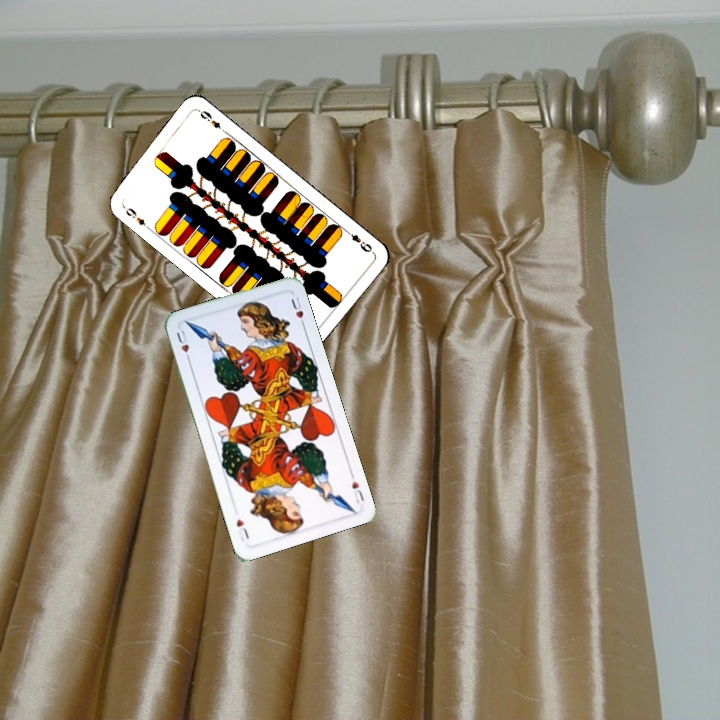E9: (118, 201, 152, 231), (341, 226, 375, 255)
HU: (172, 326, 193, 365), (348, 477, 367, 505)
